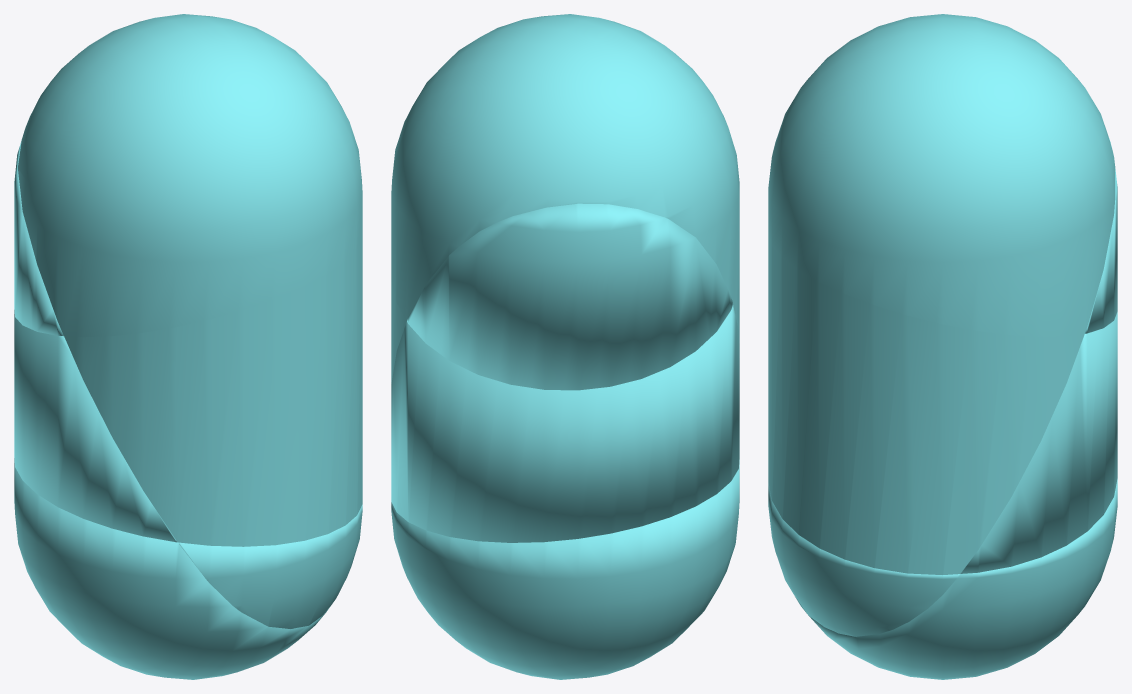
The model's file is headbisected.fbx.
The picture shows the model from 3 angles, left to right: view 1: azimuth 30°, elevation 25°; view 2: azimuth 150°, elevation 25°; view 3: azimuth 270°, elevation 25°; orthographic projection.
Visible parts, largest first — view 1: enemyhead.002, enemyhead.001, enemyhead.005, enemyhead.003, enemyhead.004, enemyhead; view 2: enemyhead.002, enemyhead.003, enemyhead, enemyhead.005, enemyhead.001; view 3: enemyhead.002, enemyhead.001, enemyhead.005, enemyhead.003, enemyhead.004, enemyhead.
Boxes of the visible parts, bbox=[...] form: enemyhead.002: bbox=[18, 14, 362, 337]; enemyhead.001: bbox=[64, 239, 362, 546]; enemyhead.005: bbox=[14, 458, 330, 679]; enemyhead.003: bbox=[14, 310, 177, 542]; enemyhead.004: bbox=[178, 504, 362, 628]; enemyhead: bbox=[14, 142, 63, 336]; enemyhead.002: bbox=[391, 14, 739, 320]; enemyhead.003: bbox=[391, 305, 739, 542]; enemyhead: bbox=[407, 203, 732, 390]; enemyhead.005: bbox=[391, 460, 739, 679]; enemyhead.001: bbox=[391, 269, 739, 383]; enemyhead.002: bbox=[768, 14, 1115, 336]; enemyhead.001: bbox=[768, 235, 1084, 574]; enemyhead.005: bbox=[795, 479, 1117, 679]; enemyhead.003: bbox=[960, 312, 1117, 573]; enemyhead.004: bbox=[768, 483, 959, 636]; enemyhead: bbox=[1085, 138, 1117, 333].
Bounding box in the file's own units: 50 × 100 × 50.
